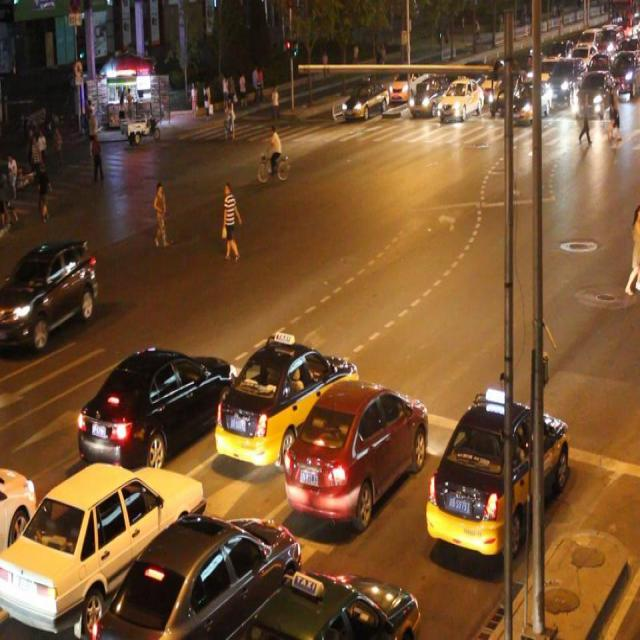car: (0, 468, 213, 640), (100, 511, 315, 640), (432, 402, 560, 576), (65, 325, 227, 462), (300, 378, 424, 529), (204, 331, 353, 456), (0, 225, 104, 363), (246, 567, 428, 640), (495, 70, 576, 127), (336, 67, 397, 139), (440, 76, 490, 139), (578, 65, 620, 133), (405, 71, 450, 128), (562, 30, 606, 78), (543, 49, 580, 106), (609, 40, 640, 106), (382, 59, 417, 103)
